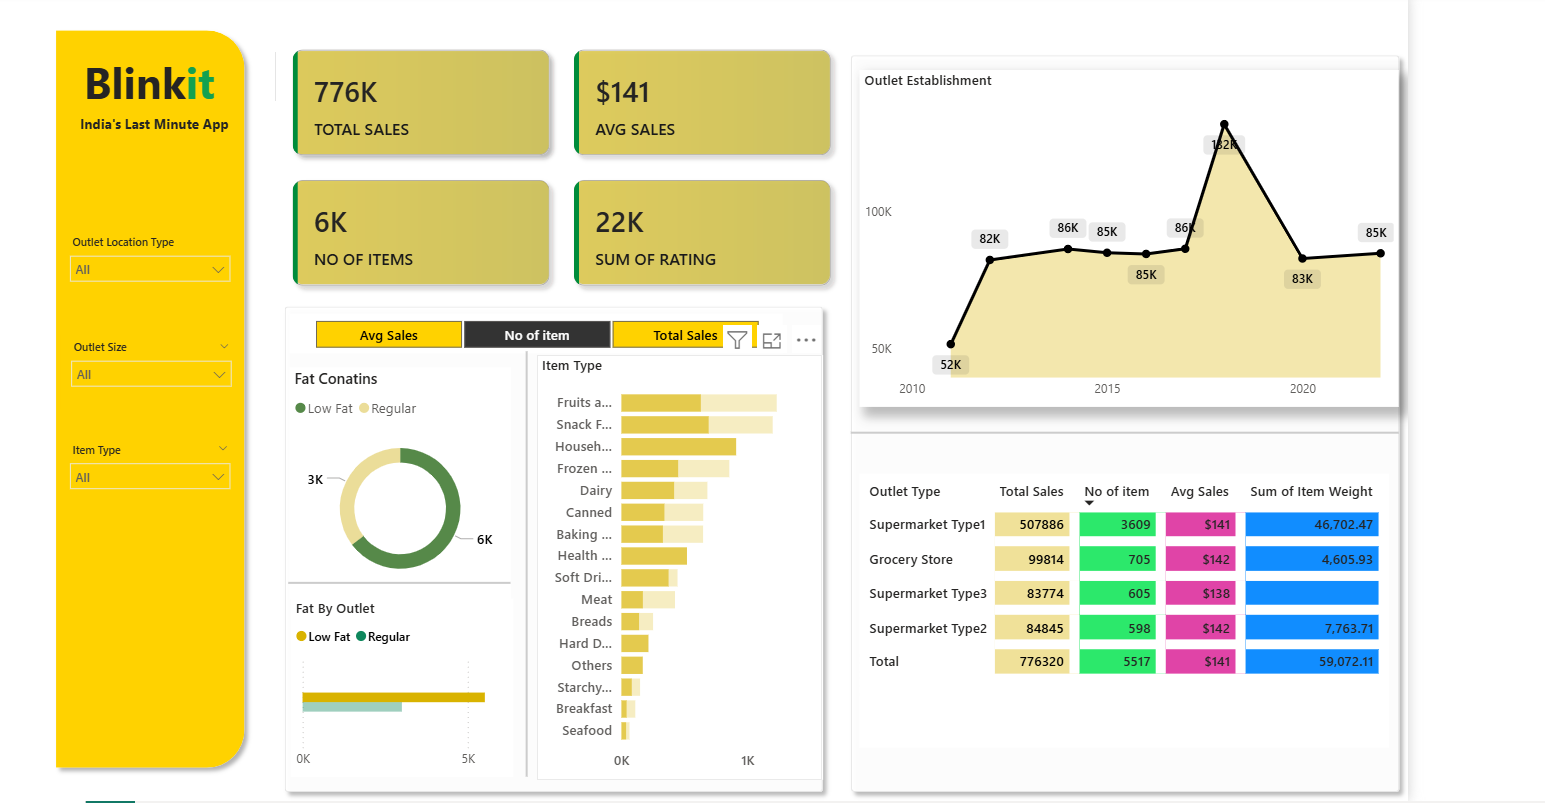

Layout of this report page (visuals, bound fields, positions):
{"tool":"powerbi","page":{"name":"Blinkit","canvas":[1400,800],"ordinal":0},"visuals":[{"type":"shape","box":[49.6,25.4,205,750],"z":0},{"type":"textbox","box":[21.6,52.1,268.4,62.3],"z":1000},{"type":"textbox","box":[52.1,114.5,208.6,28],"z":2000},{"type":"cardVisual","fields":{"Data":["Blinkit.Total Sales","Blinkit.Avg Sales","Blinkit.No of item","Sum(Blinkit.Rating)"]},"box":[277.3,36.9,569.8,269.6],"z":3000},{"type":"shape","box":[277.3,300.1,552,499.8],"z":4000},{"type":"donutChart","title":"Fat Conatins","fields":{"Y":["Blinkit.No of item"],"Category":["Blinkit.Item Fat Content"]},"box":[290,370.1,220,230.2],"z":5000},{"type":"slicer","fields":{"Values":["Metrics.Metrics"]},"box":[290,316.7,489.6,39.4],"z":6000},{"type":"clusteredBarChart","title":"Fat By Outlet","fields":{"Y":["Blinkit.No of item"],"Series":["Blinkit.Item Fat Content"]},"box":[291.2,598.8,220.6,177.1],"z":7000},{"type":"shape","box":[289.7,567.3,220.6,33],"z":8000},{"type":"shape","box":[488.4,353.6,73.8,422.2],"z":9000},{"type":"clusteredBarChart","title":"Item Type","fields":{"Y":["Blinkit.No of item"],"Category":["Blinkit.Item Type"]},"box":[535.8,357.2,283.7,421.7],"z":10000},{"type":"shape","box":[838.1,50.9,562.1,749.1],"z":11000},{"type":"lineChart","title":"Outlet Establishment","fields":{"Category":["Blinkit.Outlet Establishment Year"],"Y":["Blinkit.Total Sales"]},"box":[855.9,75,535.4,334.5],"z":12000},{"type":"shape","box":[847,223.8,544.3,422.2],"z":13000},{"type":"pivotTable","fields":{"Rows":["Blinkit.Outlet Type"],"Values":["Blinkit.Total Sales","Blinkit.No of item","Blinkit.Avg Sales","Sum(Blinkit.Item Weight)"]},"box":[855.9,475.7,525.3,272.2],"z":14000},{"type":"slicer","fields":{"Values":["Blinkit.Outlet Location Type"]},"box":[62.3,232.7,179.3,73.8],"z":15000},{"type":"slicer","fields":{"Values":["Blinkit.Outlet Size"]},"box":[63.6,337,179.3,73.8],"z":15001},{"type":"slicer","fields":{"Values":["Blinkit.Item Type"]},"box":[62.3,438.8,179.3,73.8],"z":15002}]}

Visuals, with their boxes on the page's 1400x800 design canvas (x1, y1, x2, y2). These are canvas units, not pixel positions in the 1545x803 screenshot, which may show the page scaled, cropped or inside an application window:
shape: box(50, 25, 255, 775)
textbox: box(22, 52, 290, 114)
textbox: box(52, 114, 261, 142)
cardVisual - Blinkit.Total Sales x Blinkit.Avg Sales: box(277, 37, 847, 306)
shape: box(277, 300, 829, 800)
"Fat Conatins" donutChart: box(290, 370, 510, 600)
slicer - Metrics.Metrics: box(290, 317, 780, 356)
"Fat By Outlet" clusteredBarChart: box(291, 599, 512, 776)
shape: box(290, 567, 510, 600)
shape: box(488, 354, 562, 776)
"Item Type" clusteredBarChart: box(536, 357, 820, 779)
shape: box(838, 51, 1400, 800)
"Outlet Establishment" lineChart: box(856, 75, 1391, 410)
shape: box(847, 224, 1391, 646)
pivotTable - Blinkit.Outlet Type x Blinkit.Total Sales: box(856, 476, 1381, 748)
slicer - Blinkit.Outlet Location Type: box(62, 233, 242, 306)
slicer - Blinkit.Outlet Size: box(64, 337, 243, 411)
slicer - Blinkit.Item Type: box(62, 439, 242, 513)
